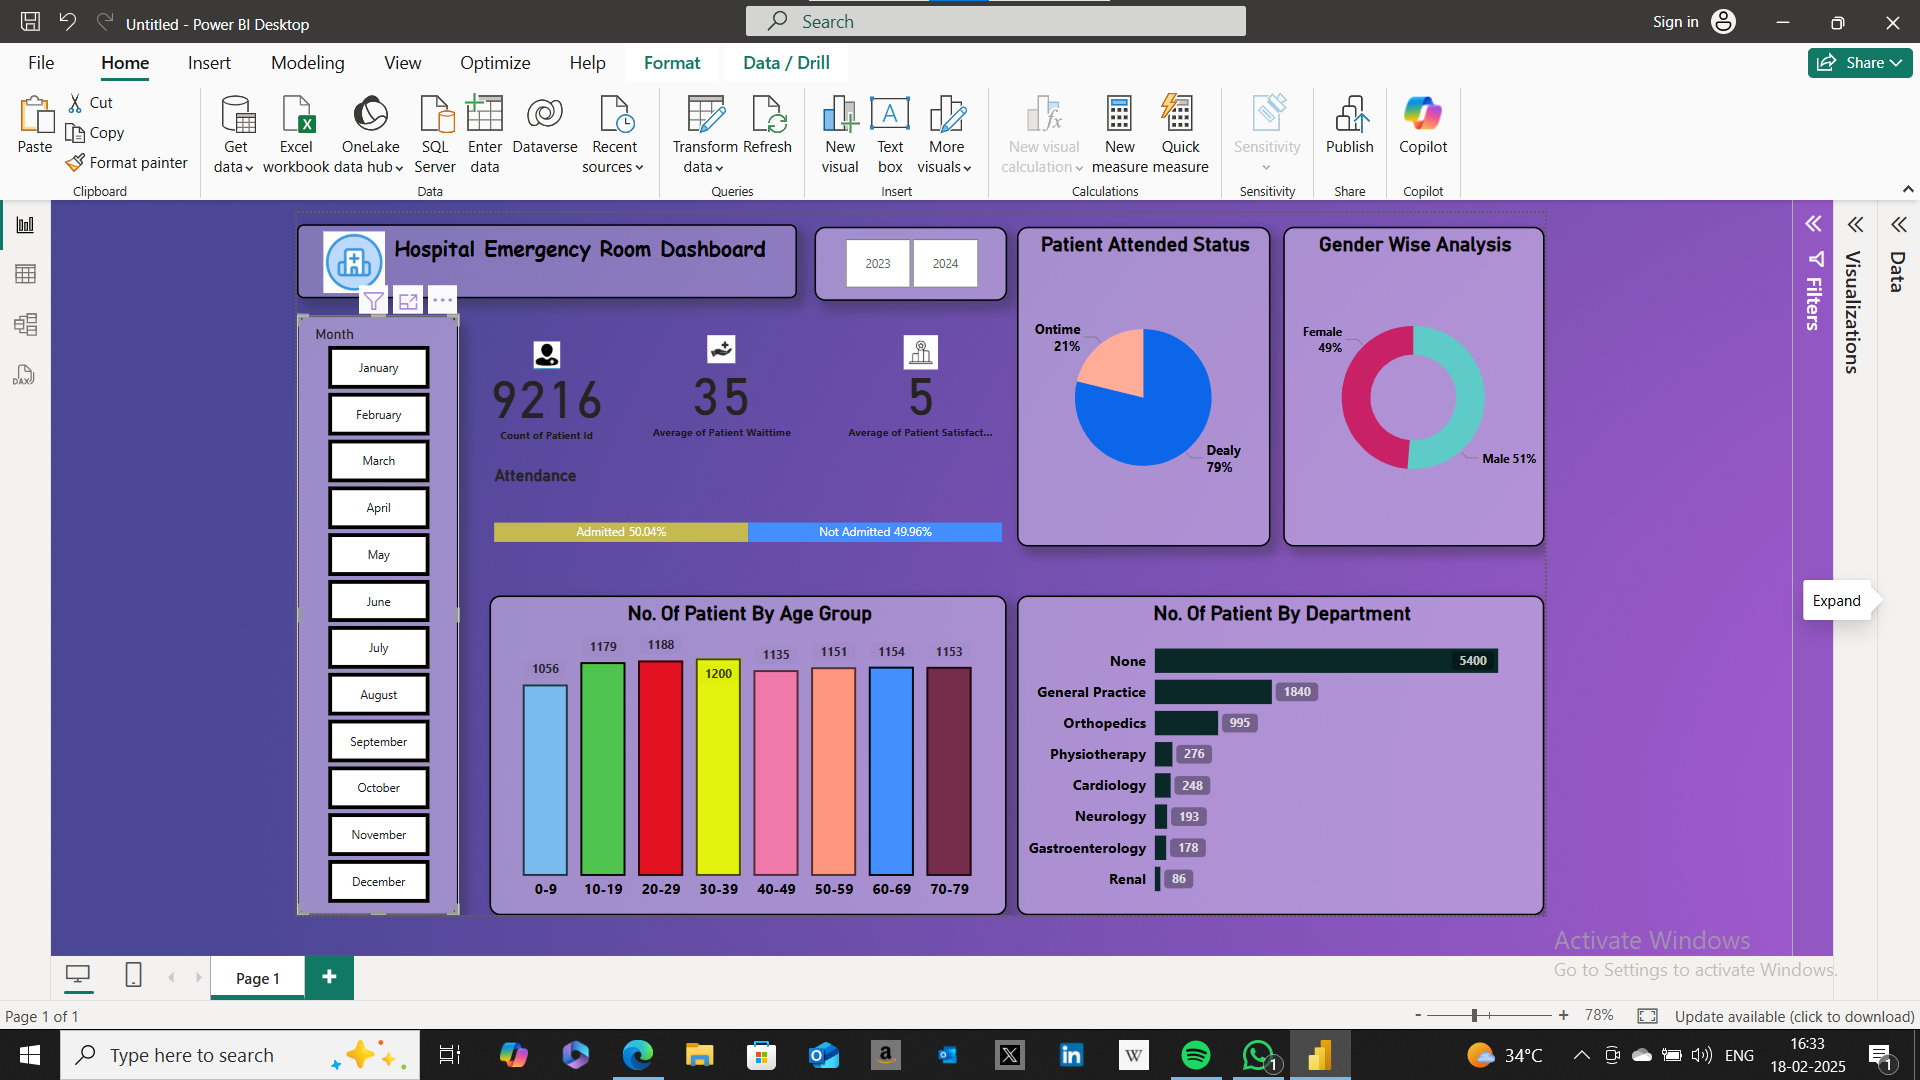

This screenshot's page, from the dashboard's own definition file:
{"tool":"powerbi","page":{"name":"Page 1","canvas":[1280,720],"ordinal":0},"visuals":[{"type":"card","title":"No. Of Patient","fields":{"Values":["Count(Hospital Emergency Room Data.Patient Id)"]},"box":[176.9,120.5,159,141],"z":0},{"type":"textbox","box":[0,11.5,512.8,75.6],"z":1000},{"type":"image","box":[10.3,14.1,97.4,73.1],"z":2000},{"type":"image","box":[217.9,126.9,76.9,38.5],"z":3000},{"type":"image","box":[400,120.5,70.5,38.5],"z":4000},{"type":"image","box":[616.7,120.5,46.2,44.9],"z":5000},{"type":"slicer","fields":{"Values":["Calender_Table.Date.Variation.Date Hierarchy.Month"]},"box":[0,105.1,165.4,615.4],"z":6000},{"type":"card","title":"No. Of Patient","fields":{"Values":["Avg(Hospital Emergency Room Data.Patient Waittime)"]},"box":[356.4,117.9,159,141],"z":7000},{"type":"card","title":"No. Of Patient","fields":{"Values":["Avg(Hospital Emergency Room Data.Patient Satisfaction Score)"]},"box":[560.3,117.9,159,141],"z":8000},{"type":"slicer","fields":{"Values":["Calender_Table.Date.Variation.Date Hierarchy.Year"]},"box":[530.8,14.1,197.4,75.6],"z":9000},{"type":"hundredPercentStackedBarChart","title":"Attendance","fields":{"Series":["Hospital Emergency Room Data.Patient Admission Flag"],"Y":["Hospital Emergency Room Data.Total Patient"]},"box":[197.4,259,530.8,111.5],"z":9001},{"type":"clusteredColumnChart","title":"No. Of Patient By Age Group","fields":{"Y":["CountNonNull(Hospital Emergency Room Data.Patient Age)"],"Category":["Hospital Emergency Room Data.Age_Group"]},"box":[197.4,392.3,530.8,328.2],"z":9002},{"type":"pieChart","title":"Patient Attended Status","fields":{"Y":["Sum(Hospital Emergency Room Data.Patient Waittime)"],"Category":["Hospital Emergency Room Data.Patient Attend Satatus"]},"box":[738.5,14.1,260.3,328.2],"z":9003},{"type":"donutChart","title":"Gender Wise Analysis","fields":{"Category":["Hospital Emergency Room Data.Patient Gender"],"Y":["Count(Hospital Emergency Room Data.Patient Id)"]},"box":[1011.5,14.1,267.9,328.2],"z":9004},{"type":"clusteredBarChart","title":"No. Of Patient By Department","fields":{"Category":["Hospital Emergency Room Data.Department Referral"],"Y":["CountNonNull(Hospital Emergency Room Data.Department Referral)"]},"box":[738.5,392.3,541,328.2],"z":9005}]}

Visuals, with their boxes on the page's 1280x720 design canvas (x1, y1, x2, y2). These are canvas units, not pixel positions in the 1920x1080 screenshot, which may show the page scaled, cropped or inside an application window:
"No. Of Patient" card: crop(177, 120, 336, 262)
textbox: crop(0, 12, 513, 87)
image: crop(10, 14, 108, 87)
image: crop(218, 127, 295, 165)
image: crop(400, 120, 470, 159)
image: crop(617, 120, 663, 165)
slicer - Calender_Table.Date.Variation.Date Hierarchy.Month: crop(0, 105, 165, 720)
"No. Of Patient" card: crop(356, 118, 515, 259)
"No. Of Patient" card: crop(560, 118, 719, 259)
slicer - Calender_Table.Date.Variation.Date Hierarchy.Year: crop(531, 14, 728, 90)
"Attendance" hundredPercentStackedBarChart: crop(197, 259, 728, 370)
"No. Of Patient By Age Group" clusteredColumnChart: crop(197, 392, 728, 720)
"Patient Attended Status" pieChart: crop(738, 14, 999, 342)
"Gender Wise Analysis" donutChart: crop(1012, 14, 1279, 342)
"No. Of Patient By Department" clusteredBarChart: crop(738, 392, 1280, 720)
